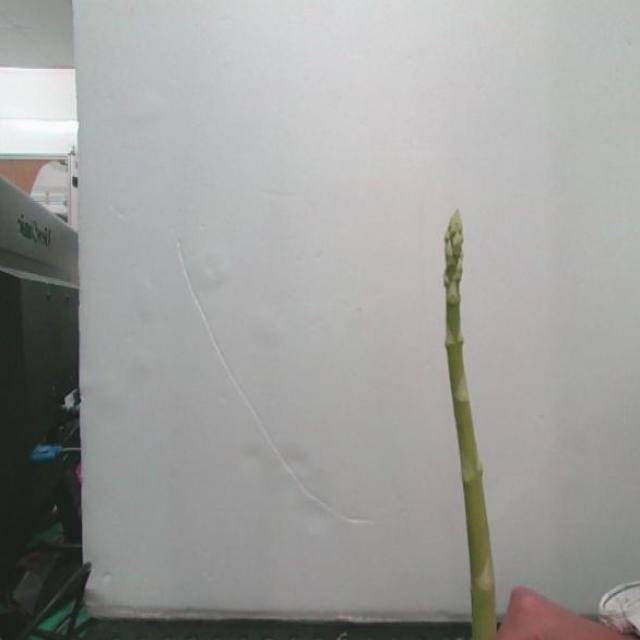aspargus: (442, 213, 495, 640)
